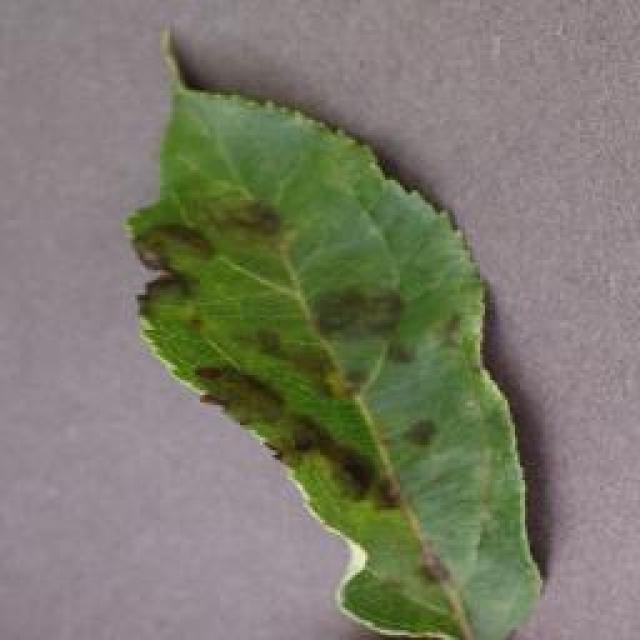apple scab disease: (122, 22, 548, 638)
